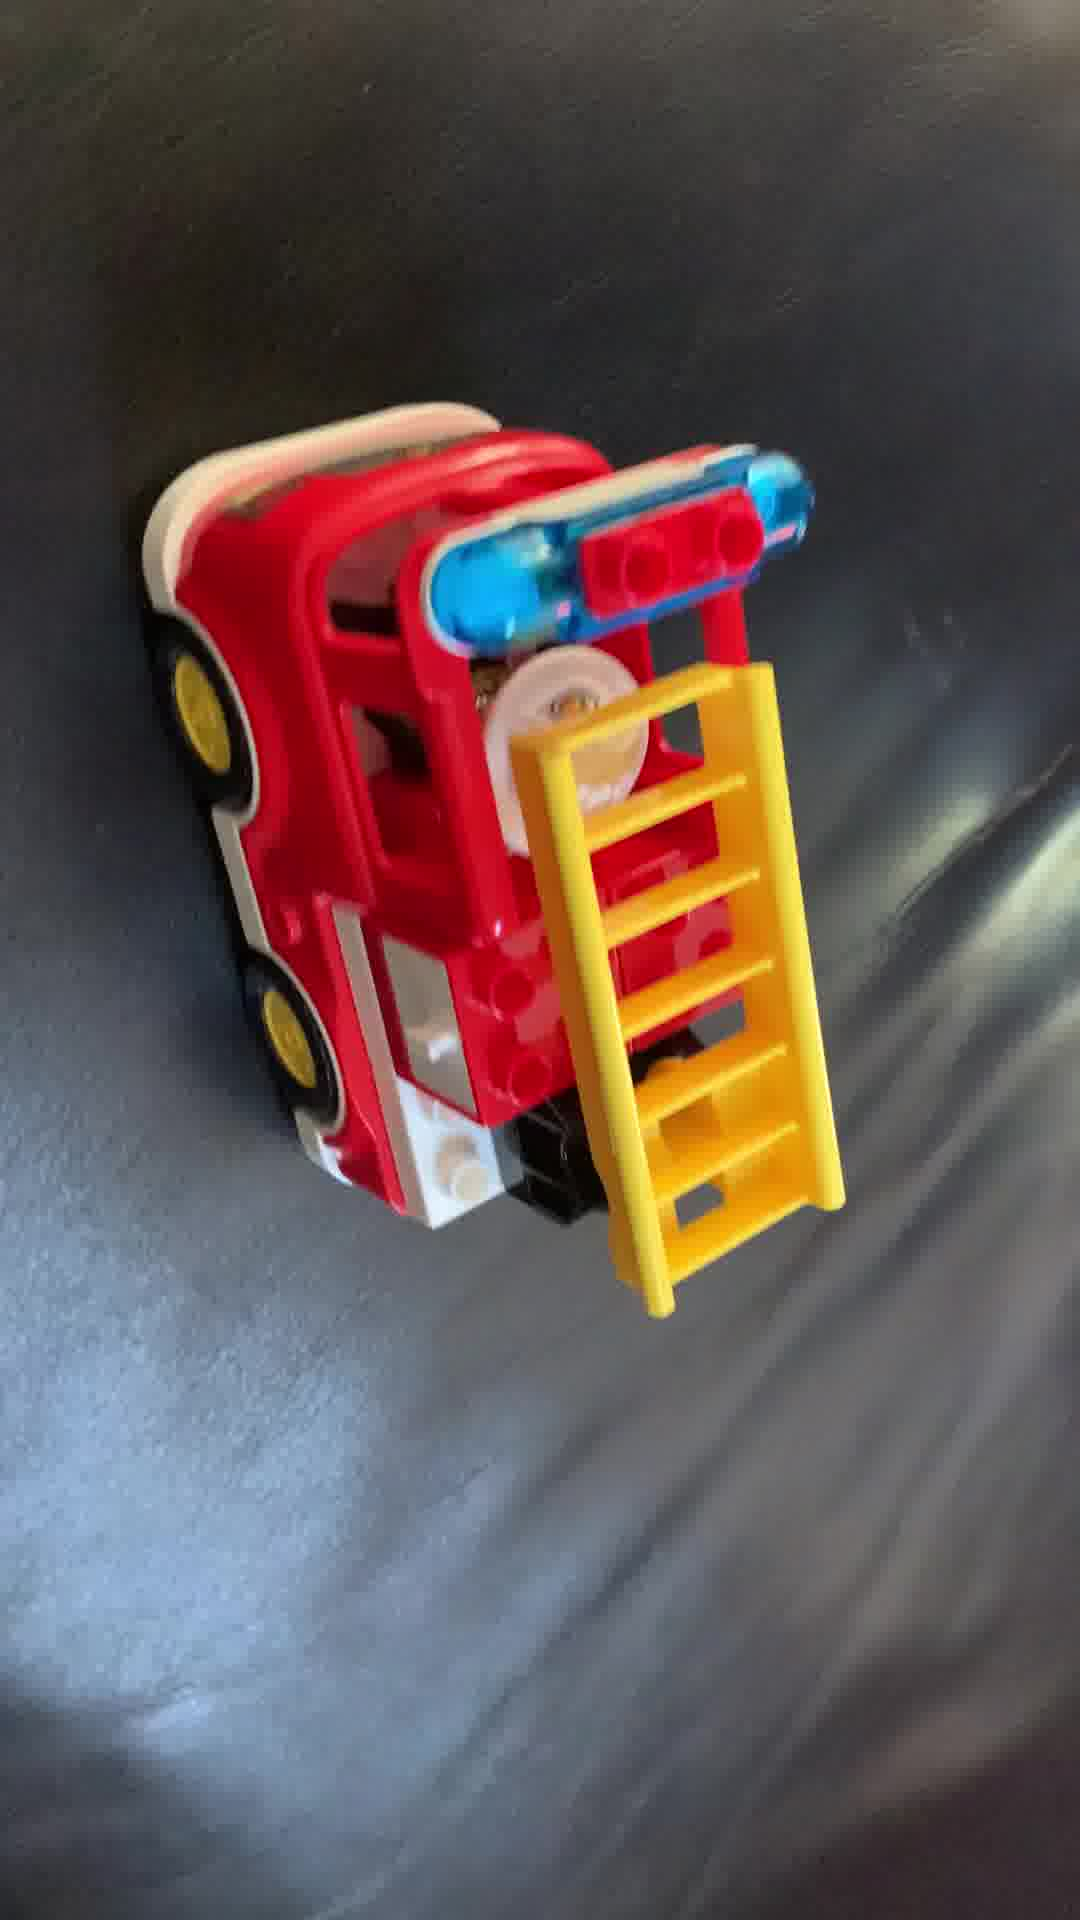lego fire truck: (131, 393, 855, 1325)
